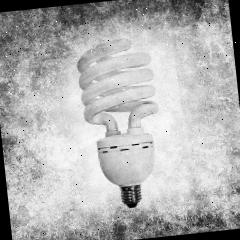lightbulb: (74, 34, 168, 212), (94, 126, 160, 210)
